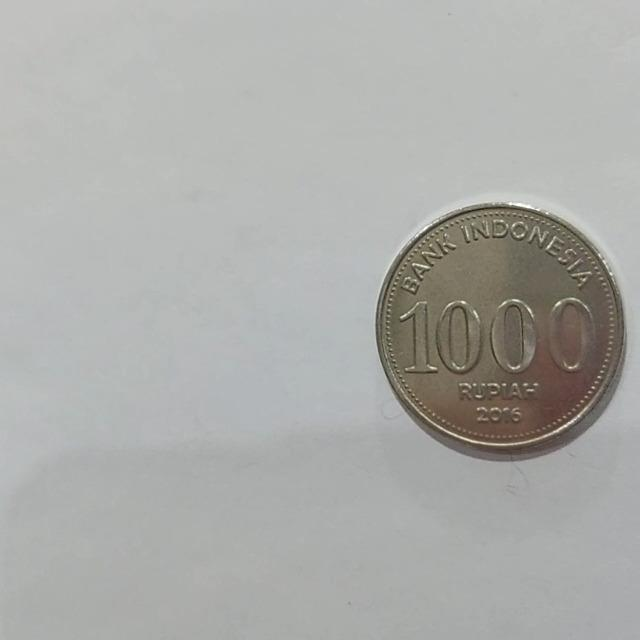Rp100: (373, 199, 627, 461)
